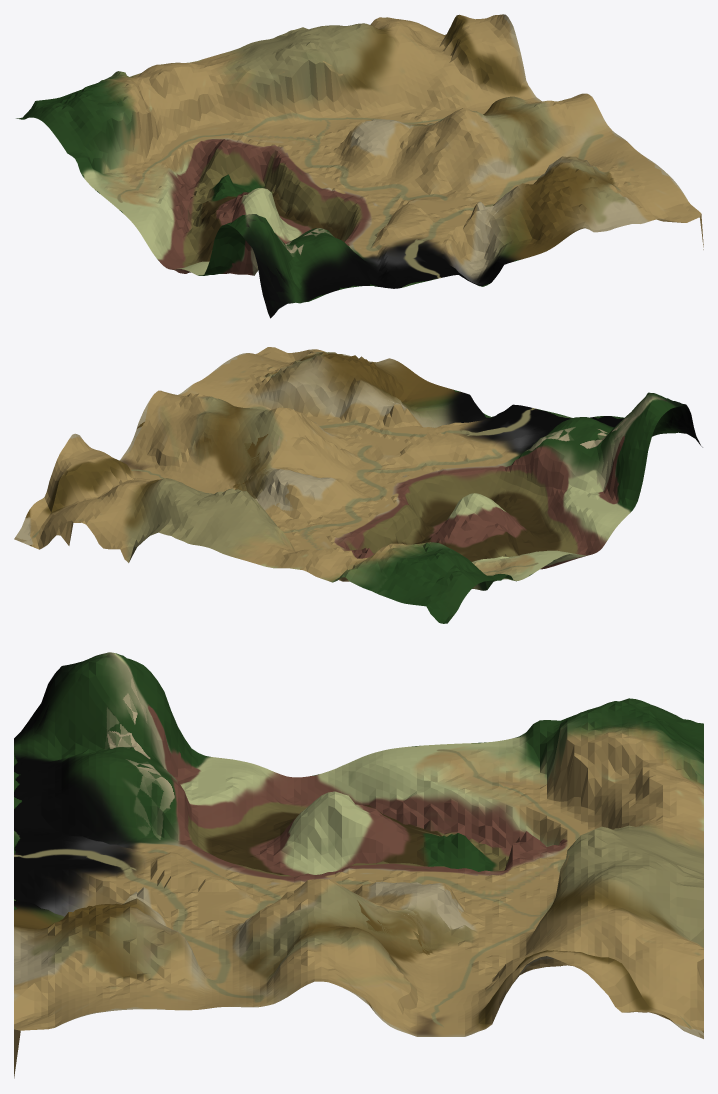
The model's file is new_Terrain12.fbx.
The picture shows the model from 3 angles, top to bottom: view 1: azimuth 30°, elevation 25°; view 2: azimuth 150°, elevation 25°; view 3: azimuth 270°, elevation 25°; orthographic projection. The views are drawn at different scales.
Parts seen in each view (by area): view 1: copysT12; view 2: copysT12; view 3: copysT12.
Part boxes in pixels (x1,y1,x2,y2): copysT12: (16,14,703,318); copysT12: (14,347,702,623); copysT12: (14,652,703,1078).
Bounding box in the file's own units: 31667 × 7895 × 32440.
